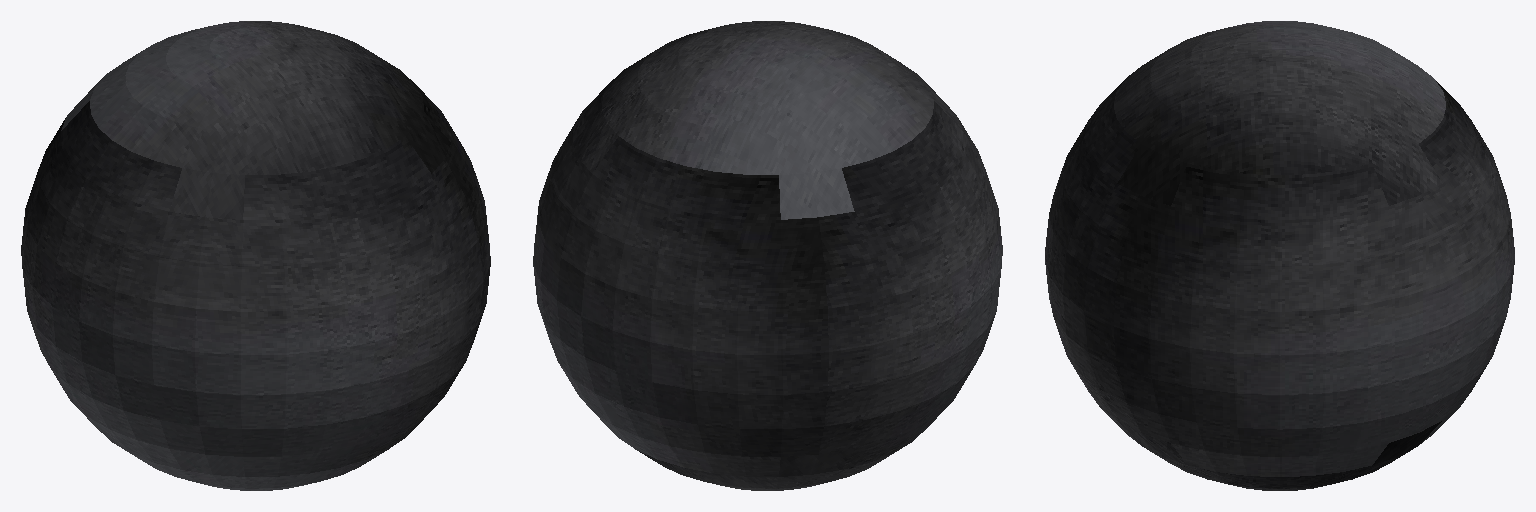
3 views of the same model, side by side, from view 1: azimuth 30°, elevation 25°; view 2: azimuth 150°, elevation 25°; view 3: azimuth 270°, elevation 25° (orthographic).
Parts seen in each view (by area): view 1: Sphere_Sphere.001; view 2: Sphere_Sphere.001; view 3: Sphere_Sphere.001.
Part boxes in pixels (x1,y1,x2,y2): Sphere_Sphere.001: (21,21,490,490); Sphere_Sphere.001: (533,21,1002,490); Sphere_Sphere.001: (1045,21,1514,490).
Bounding box in the file's own units: 2 × 2 × 2.
Materials: 1 (1 with a texture image).